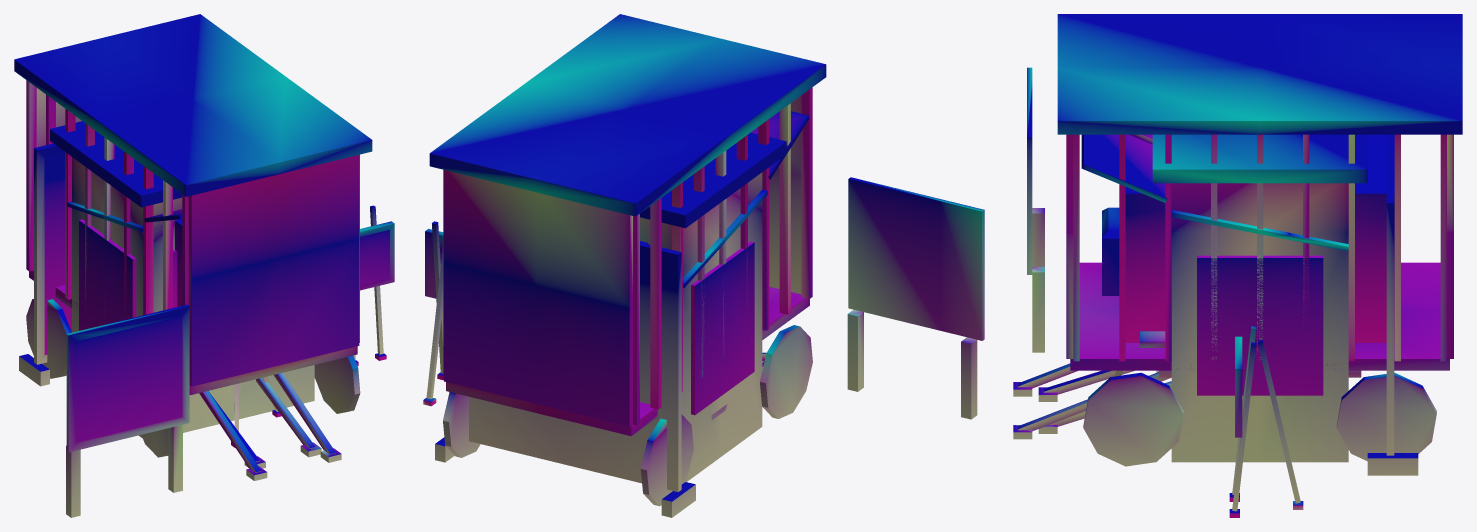
File: trade_kit.glb
3 renders of one model, left to right at view 1: azimuth 30°, elevation 25°; view 2: azimuth 150°, elevation 25°; view 3: azimuth 270°, elevation 25°, orthographic. The views are drawn at different scales.
Visible parts, largest first — view 1: wagon_monster, kiosk_news, booth_photographer, cart_firewood, cart_tamale, kiosk_sweets; view 2: wagon_monster, kiosk_news, booth_photographer, kiosk_sweets; view 3: wagon_monster, kiosk_news, booth_photographer, cart_firewood, kiosk_sweets, cart_tamale.
Part boxes in pixels (bbox=[...]): wagon_monster: bbox=[14, 14, 372, 517]; kiosk_news: bbox=[50, 121, 314, 438]; booth_photographer: bbox=[19, 143, 394, 447]; cart_firewood: bbox=[199, 372, 341, 480]; cart_tamale: bbox=[209, 378, 321, 468]; kiosk_sweets: bbox=[67, 201, 174, 232]; wagon_monster: bbox=[429, 14, 984, 506]; kiosk_news: bbox=[640, 111, 809, 481]; booth_photographer: bbox=[423, 221, 695, 517]; kiosk_sweets: bbox=[683, 189, 767, 288]; wagon_monster: bbox=[1027, 14, 1462, 466]; kiosk_news: bbox=[1081, 134, 1367, 462]; booth_photographer: bbox=[1102, 134, 1418, 517]; cart_firewood: bbox=[1013, 363, 1361, 439]; kiosk_sweets: bbox=[1171, 210, 1348, 251]; cart_tamale: bbox=[1038, 370, 1171, 433].
Bounding box in the file's own units: 4.45 × 3.02 × 3.55.
